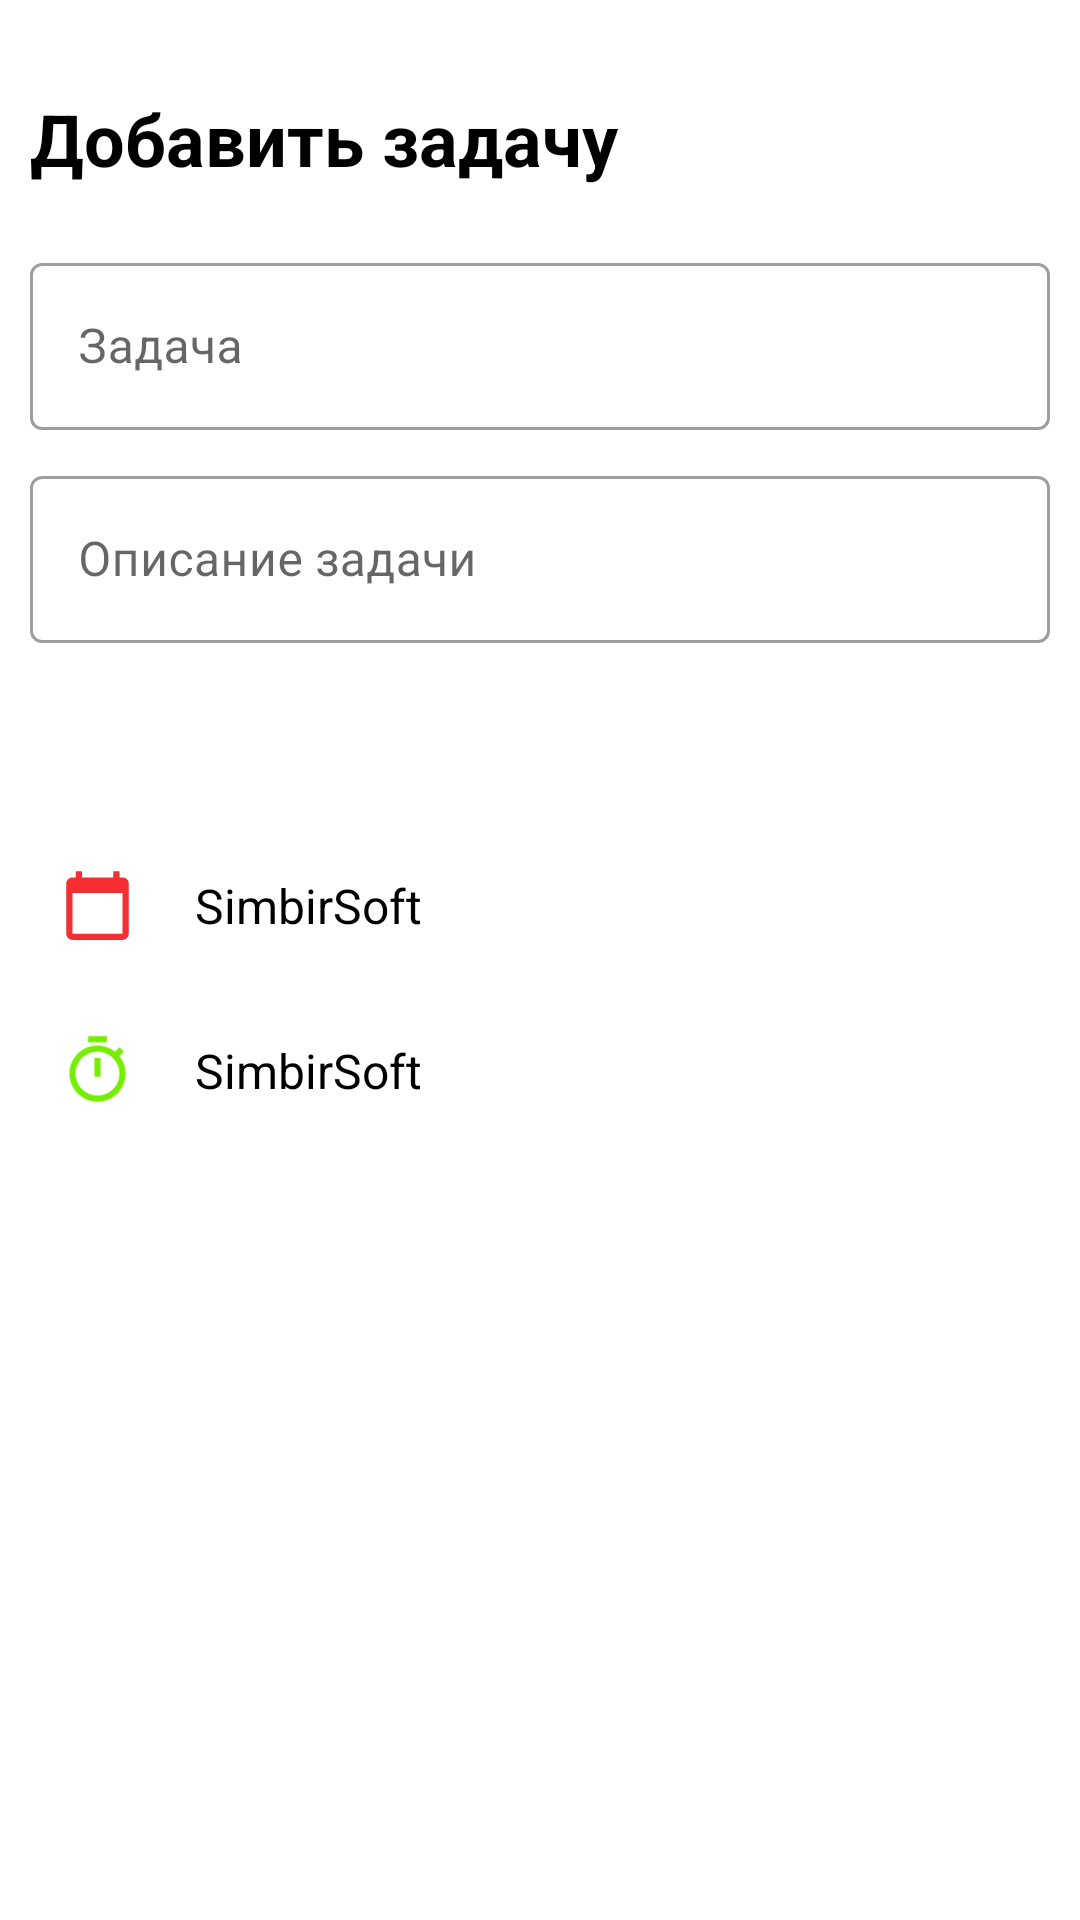

Icons on this 1080x1920 Android screen, each with the point to tap as [x,y]:
calendar: [97,905]
timer: [97,1069]
